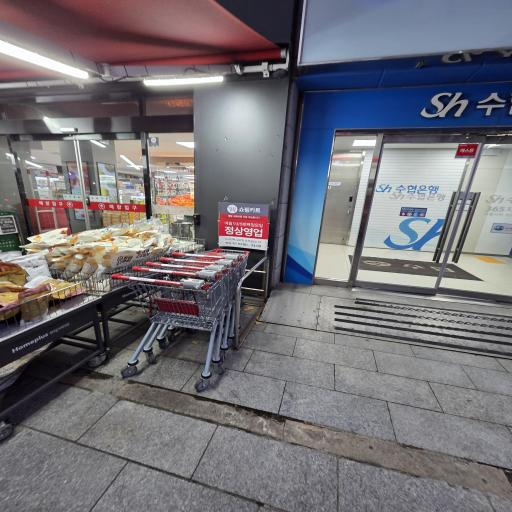combined_cart: (107, 242, 271, 390)
